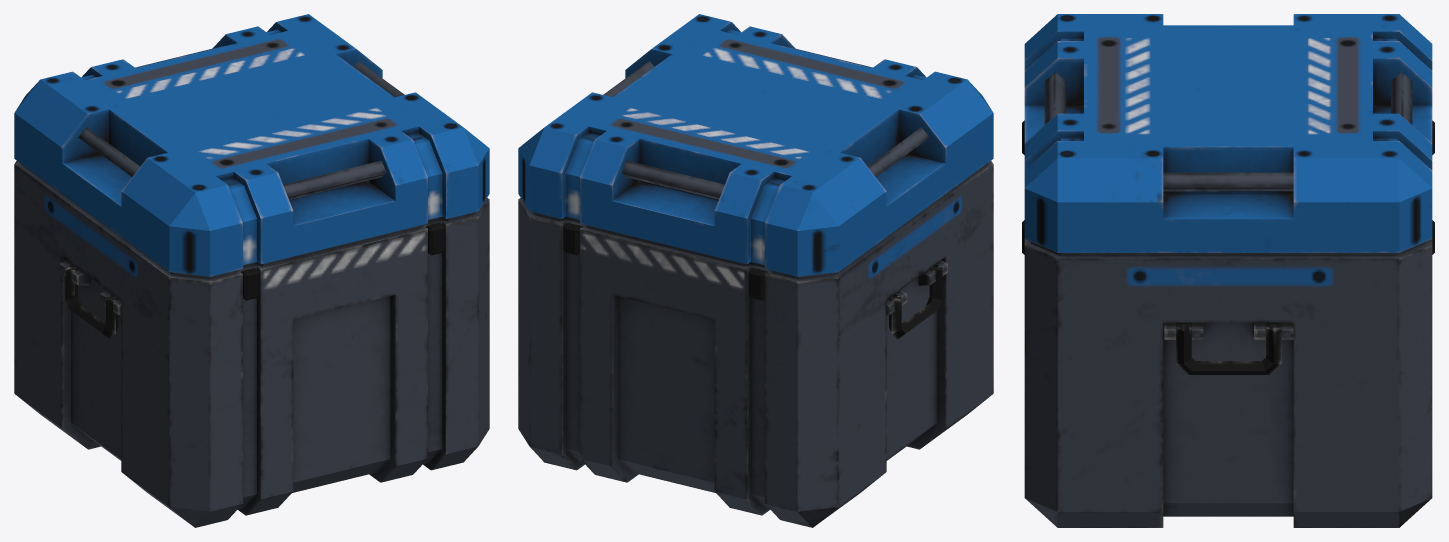
3 views of the same model, side by side, from view 1: azimuth 30°, elevation 25°; view 2: azimuth 150°, elevation 25°; view 3: azimuth 270°, elevation 25° (orthographic). The views are drawn at different scales.
Visible parts, largest first — view 1: sci_fi_BoxBot, sci_fi_BoxUp; view 2: sci_fi_BoxBot, sci_fi_BoxUp; view 3: sci_fi_BoxBot, sci_fi_BoxUp.
Boxes of the visible parts, <box> form: sci_fi_BoxBot: <box>14,161,489,527</box>; sci_fi_BoxUp: <box>14,14,489,276</box>; sci_fi_BoxBot: <box>518,161,993,527</box>; sci_fi_BoxUp: <box>518,14,993,276</box>; sci_fi_BoxBot: <box>1022,120,1434,527</box>; sci_fi_BoxUp: <box>1024,14,1432,252</box>.
Size of the model in its own units: 105 by 101 by 102.
Materials: 1 (1 with a texture image).
